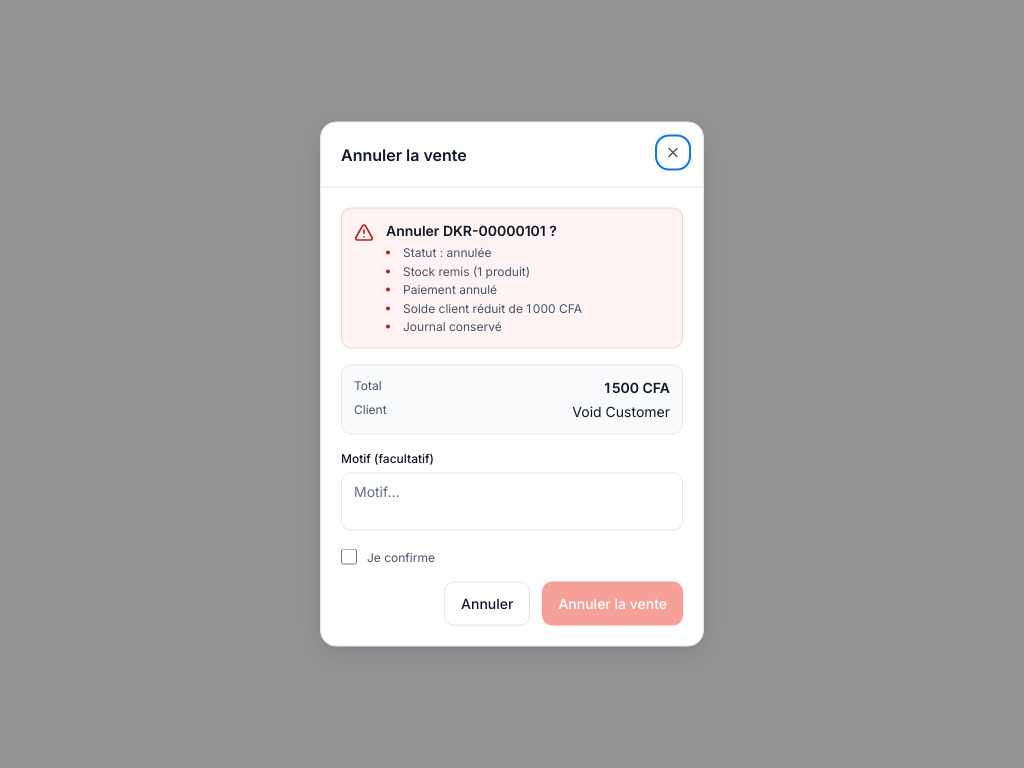
VoidModal › disables Void Sale until the confirmation checkbox is checked
Check: the button "Annuler la vente" is disabled, box [542,582,683,626]
Click the checkbox at (349, 556), box [341,548,357,564]
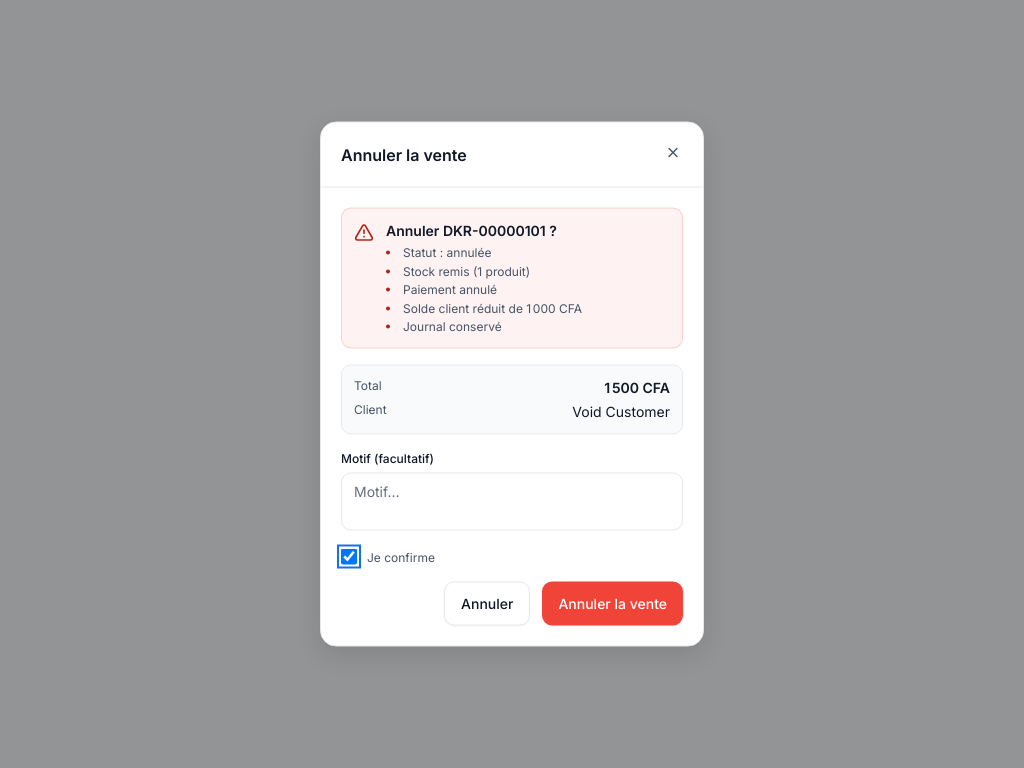
Check: the button "Annuler la vente" is enabled, box [542,582,683,626]
